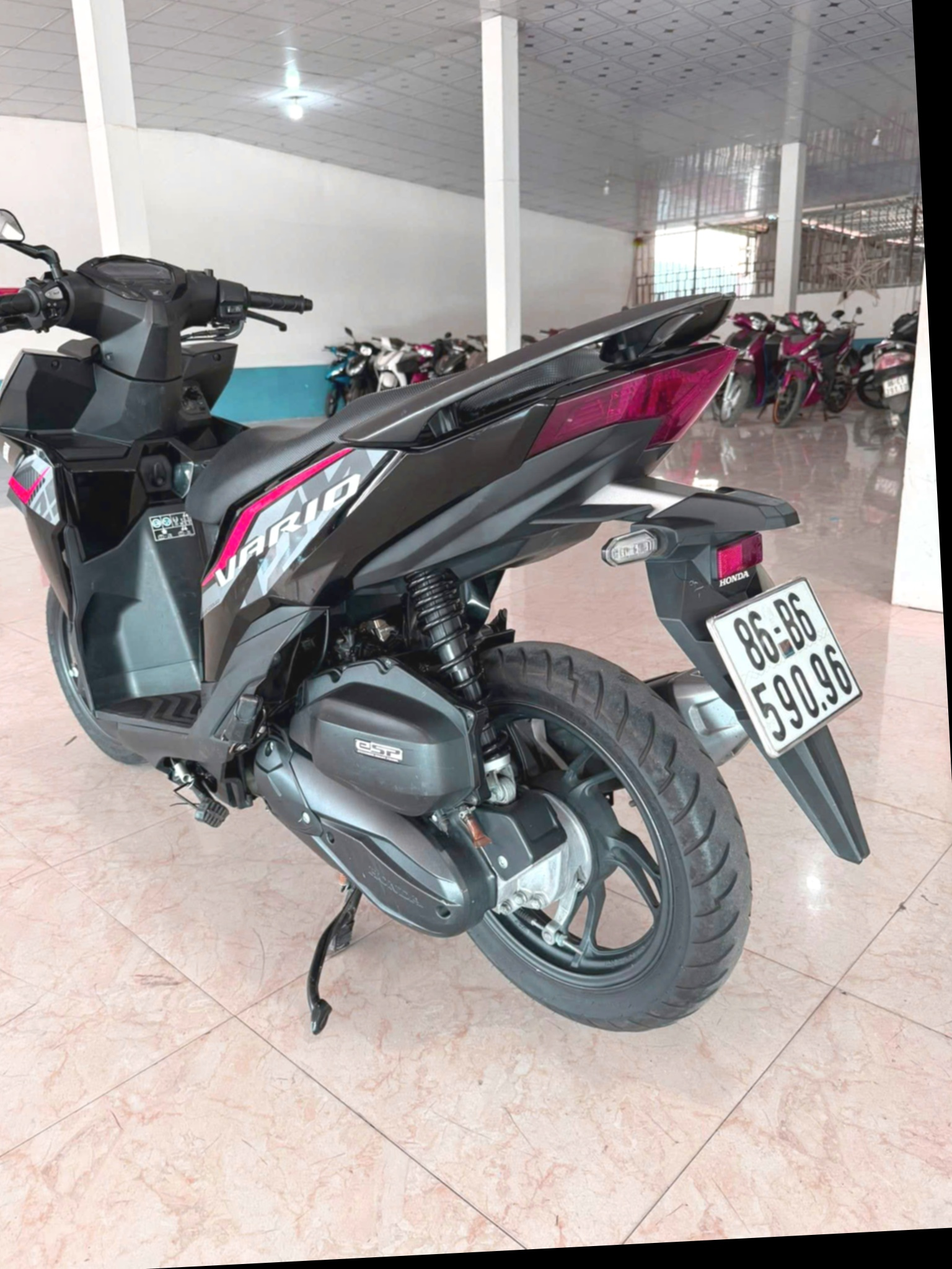Bien-so: (713, 582, 873, 779)
